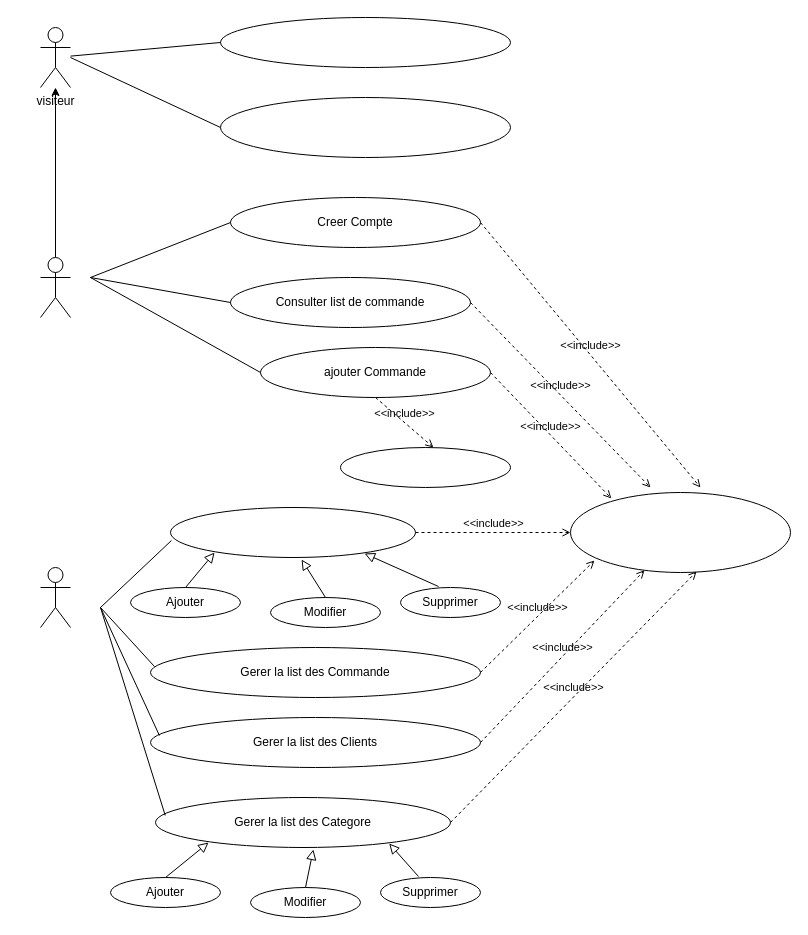
Some shapes in this 808 by 935 pixel diagram are drawn without their labels. Here are the shapes that lost their labels. From the top down, the centre of each, then its label:
the point at 365,42: Consulter site web
the point at 365,127: Consuletr list de produits
the point at 55,287: Client
the point at 425,467: choisier Categore
the point at 293,532: Gerer la list de produits
the point at 680,532: S'authentifier
the point at 55,597: administrateur
